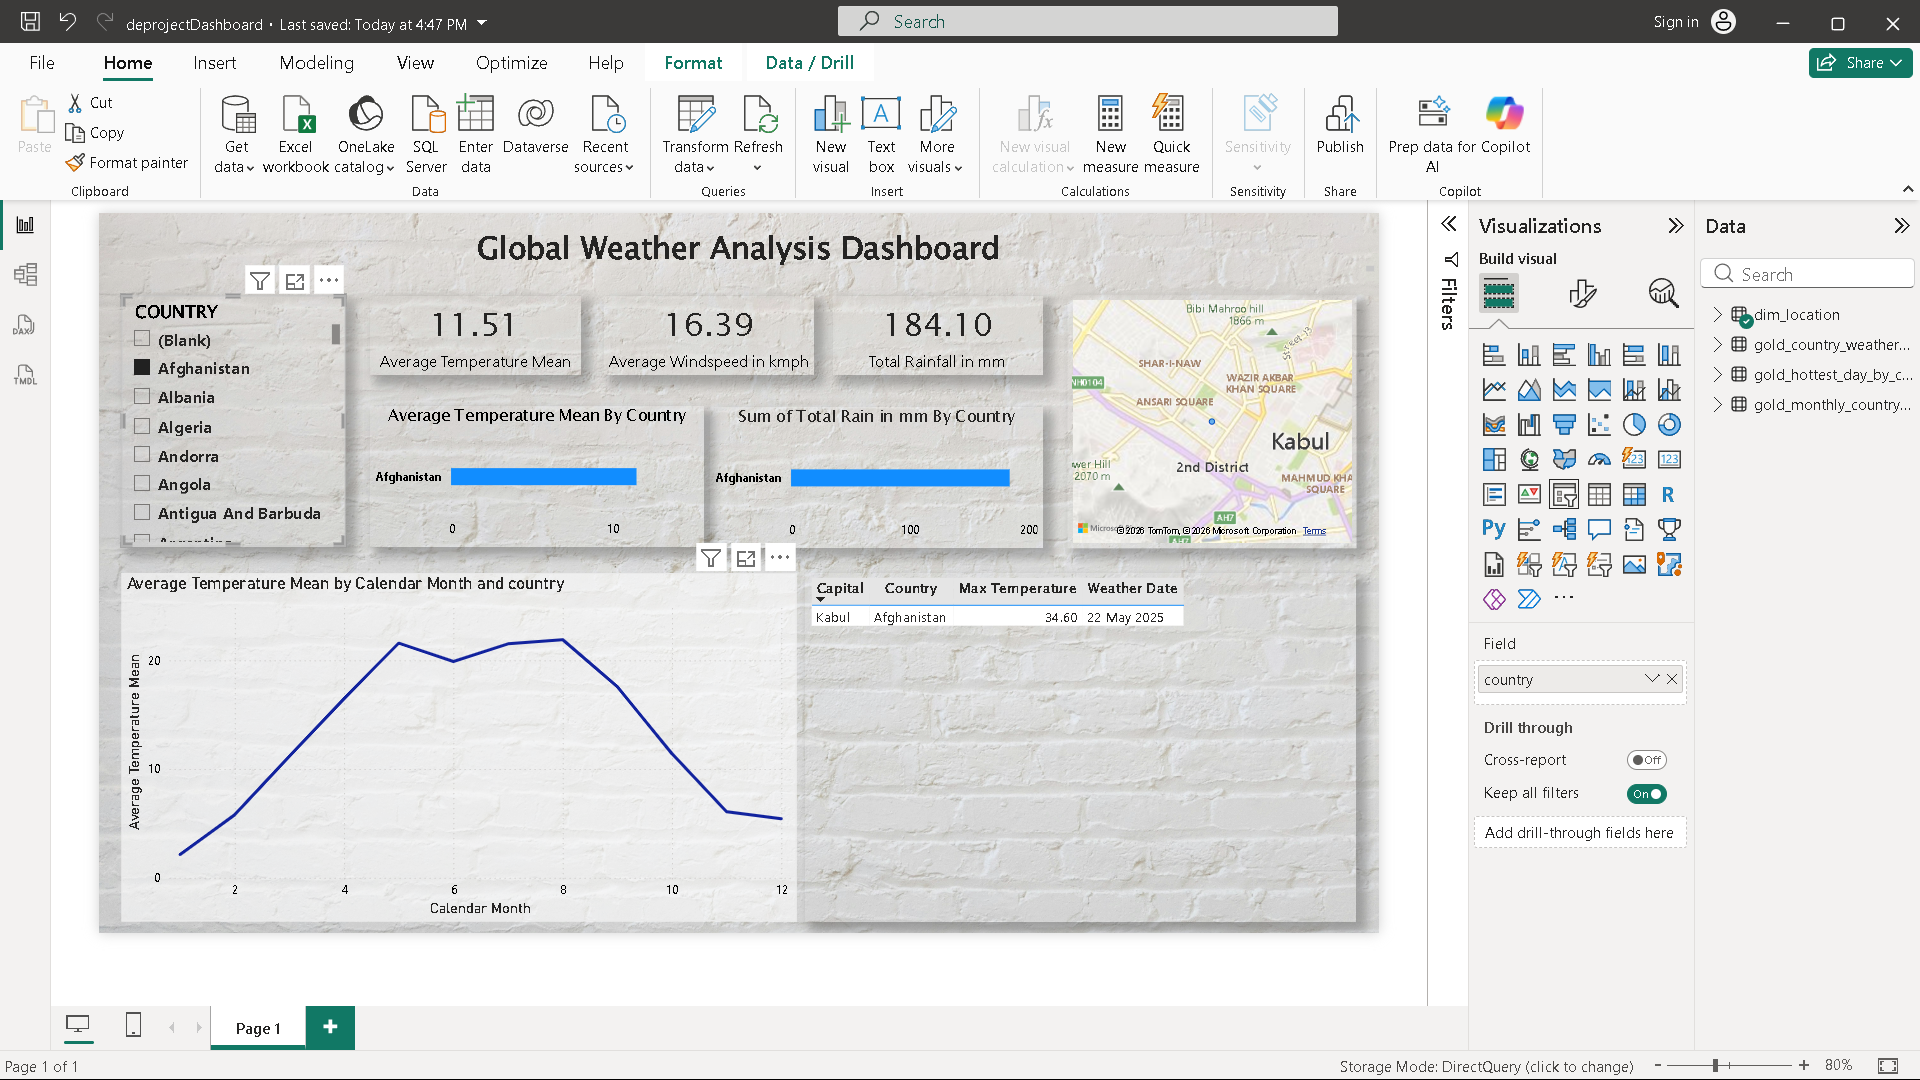

What the dashboard file says about the page in this screenshot:
{"tool":"powerbi","page":{"name":"Page 1","canvas":[1280,720],"ordinal":0},"visuals":[{"type":"clusteredBarChart","title":"Average Temperature Mean By Country","fields":{"Category":["gold_country_weather_summary.country"],"Y":["Avg(gold_country_weather_summary.avg_temp_mean)"]},"box":[271.2,192.5,333.8,141.2],"z":0},{"type":"clusteredBarChart","title":"Sum of Total Rain in mm By Country","fields":{"Category":["gold_country_weather_summary.country"],"Y":["Sum(gold_country_weather_summary.total_rain_mm)"]},"box":[611.2,193.8,332.5,141.2],"z":1000},{"type":"card","fields":{"Values":["Sum(gold_country_weather_summary.total_rain_mm)"]},"box":[733.8,82.5,210,80],"z":2000},{"type":"card","fields":{"Values":["Avg(gold_country_weather_summary.avg_temp_mean)"]},"box":[271.2,82.5,210,80],"z":3000},{"type":"card","fields":{"Values":["Avg(gold_country_weather_summary.avg_windspeed_kmh)"]},"box":[505,82.5,210,80],"z":4000},{"type":"lineChart","fields":{"Category":["gold_monthly_country_weather.calendar_month"],"Y":["Avg(gold_monthly_country_weather.avg_temp_mean)"],"Series":["gold_monthly_country_weather.country"]},"box":[22.5,360,675,348.8],"z":5000},{"type":"slicer","fields":{"Values":["dim_location.country"]},"box":[22.5,82.5,223.8,251.2],"z":6000},{"type":"tableEx","fields":{"Values":["gold_hottest_day_by_country.capital","gold_hottest_day_by_country.country","Max(gold_hottest_day_by_country.temp_max)","gold_hottest_day_by_country.weather_date"]},"box":[706.2,360,551.2,348.8],"z":7000},{"type":"map","fields":{"Y":["dim_location.lat"],"X":["dim_location.lon"]},"box":[968.8,82.5,288.8,252.5],"z":8000},{"type":"textbox","title":"Global Weather Analysis Dashboard","box":[0,0,1280,63.8],"z":9000}]}

Visuals, with their boxes on the page's 1280x720 design canvas (x1, y1, x2, y2). These are canvas units, not pixel positions in the 1920x1080 screenshot, which may show the page scaled, cropped or inside an application window:
"Average Temperature Mean By Country" clusteredBarChart: <box>271,192,605,334</box>
"Sum of Total Rain in mm By Country" clusteredBarChart: <box>611,194,944,335</box>
card - Sum(gold_country_weather_summary.total_rain_mm): <box>734,82,944,162</box>
card - Avg(gold_country_weather_summary.avg_temp_mean): <box>271,82,481,162</box>
card - Avg(gold_country_weather_summary.avg_windspeed_kmh): <box>505,82,715,162</box>
lineChart - gold_monthly_country_weather.calendar_month x Avg(gold_monthly_country_weather.avg_temp_mean): <box>22,360,698,709</box>
slicer - dim_location.country: <box>22,82,246,334</box>
tableEx - gold_hottest_day_by_country.capital x gold_hottest_day_by_country.country: <box>706,360,1257,709</box>
map - dim_location.lat x dim_location.lon: <box>969,82,1258,335</box>
"Global Weather Analysis Dashboard" textbox: <box>0,0,1280,64</box>
